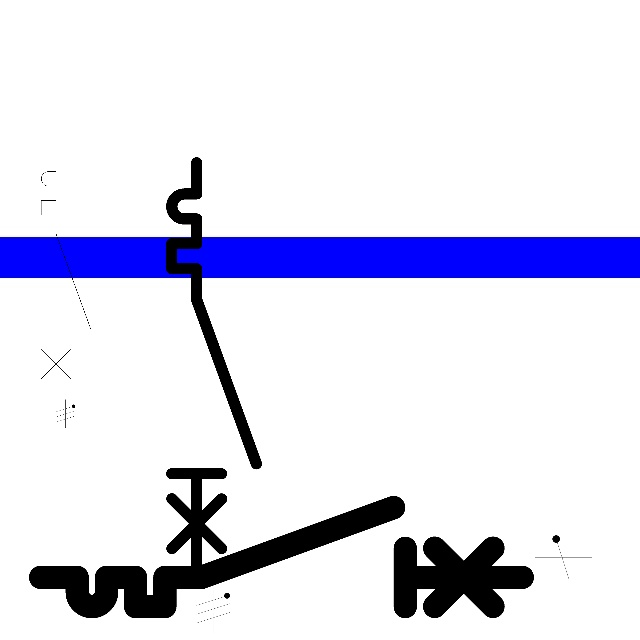interruptor_termomagnetico: (28, 495, 535, 619), (161, 152, 266, 584), (35, 147, 97, 400)
